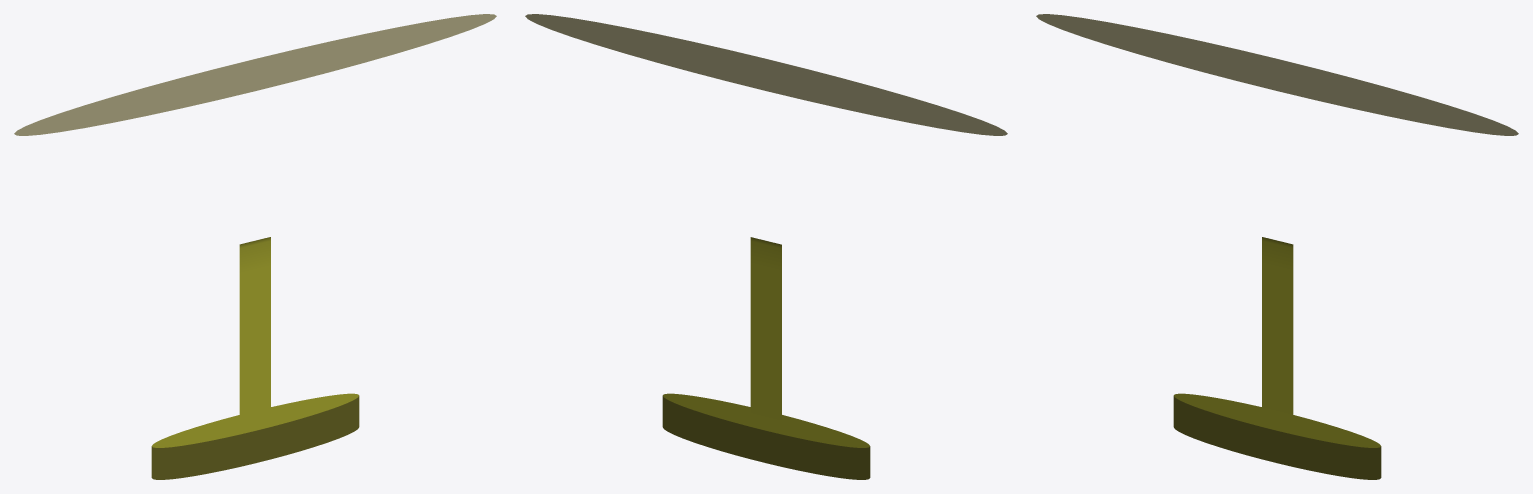
File: lamp_1.fbx
The picture shows the model from 3 angles, left to right: view 1: azimuth 30°, elevation 25°; view 2: azimuth 150°, elevation 25°; view 3: azimuth 330°, elevation 25°; orthographic projection.
Parts seen in each view (by area): view 1: lamp_1; view 2: lamp_1; view 3: lamp_1.
Part boxes in pixels (x1,y1,x2,y2): lamp_1: (14, 14, 496, 479); lamp_1: (525, 14, 1007, 479); lamp_1: (1036, 14, 1518, 479).
Size of the model in its own units: 36.59 by 29.28 by 0.0185.
